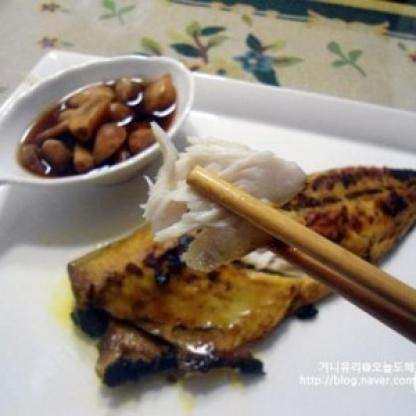Peixe: (63, 166, 416, 375), (142, 145, 296, 266)
